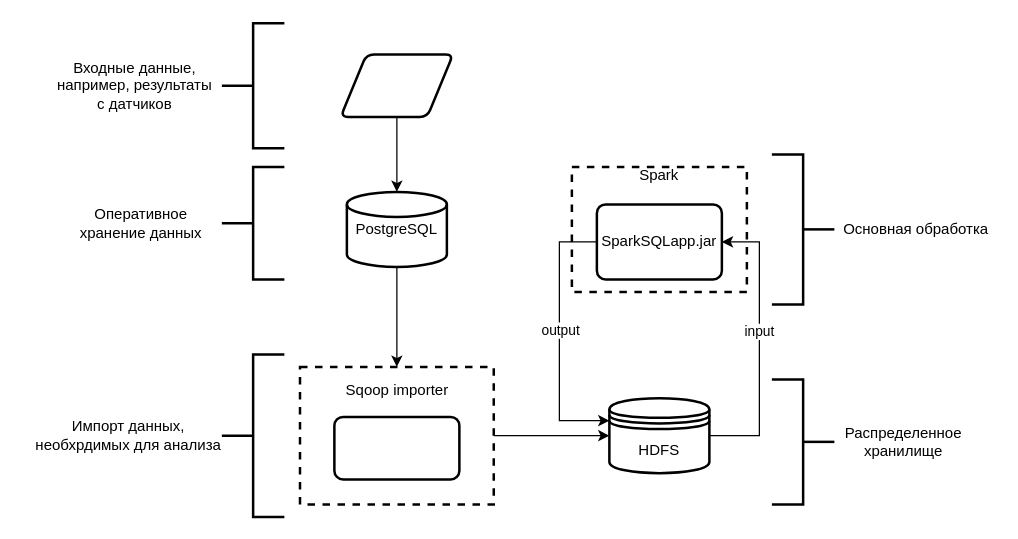
This 1018x539 diagram has some shape labels left out. Each missing label, with the box of its shape:
Data: (339, 52, 454, 118)
MapReduce: (332, 415, 460, 480)
